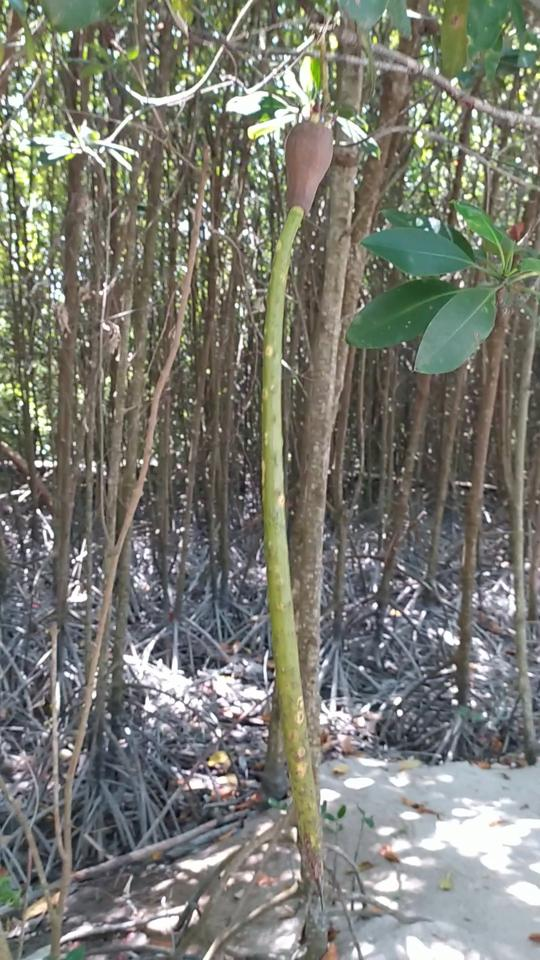setengah matang: (253, 92, 353, 908)
